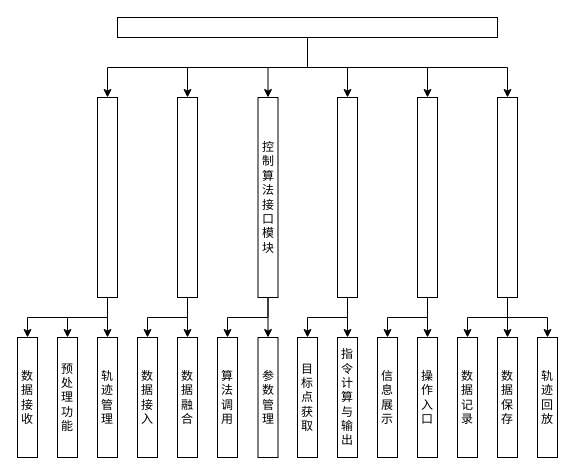
This 575x475 diagram has some shape labels left out. The shapes that lost their labels are listed below. From the top down, each one's box as (x1, y1, x2, y2) in pixels, then its label:
(116, 16, 498, 38): 轨迹跟踪系统
(96, 96, 118, 298): 轨迹规划输入模块
(176, 96, 198, 298): 车辆状态与传感器融合模块
(336, 96, 358, 298): 轨迹跟踪控制模块
(416, 96, 438, 298): 可视化展示与交互模块
(496, 96, 518, 298): 数据记录与回放模块
